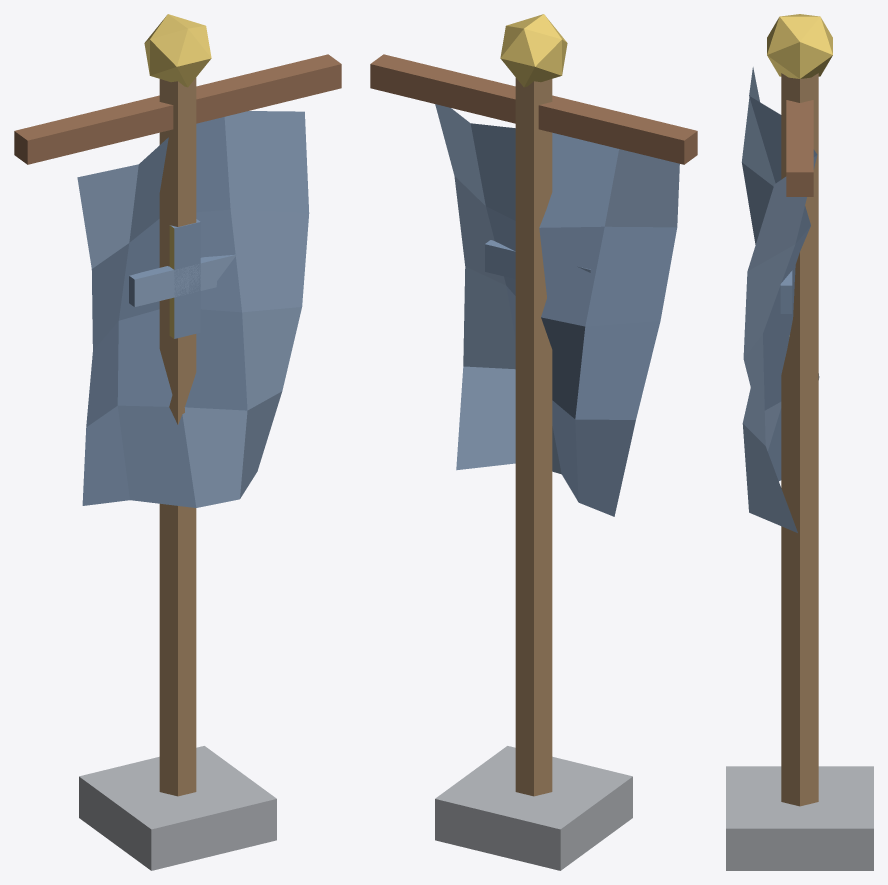
File: animprop_banner_07.glb
3 renders of one model, left to right at view 1: azimuth 30°, elevation 25°; view 2: azimuth 150°, elevation 25°; view 3: azimuth 270°, elevation 25°, orthographic.
Visible parts, largest first — view 1: animprop; view 2: animprop; view 3: animprop.
Boxes of the visible parts, x1,y1,x2,y2 form: animprop: (14, 14, 341, 870); animprop: (370, 14, 697, 870); animprop: (726, 14, 873, 870).
Size of the model in its own units: 0.95 by 2.34 by 0.38.
